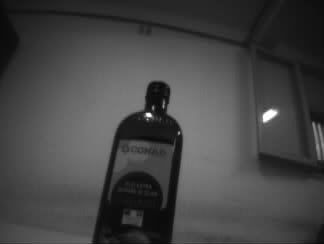Bottle: (91, 80, 186, 244)
